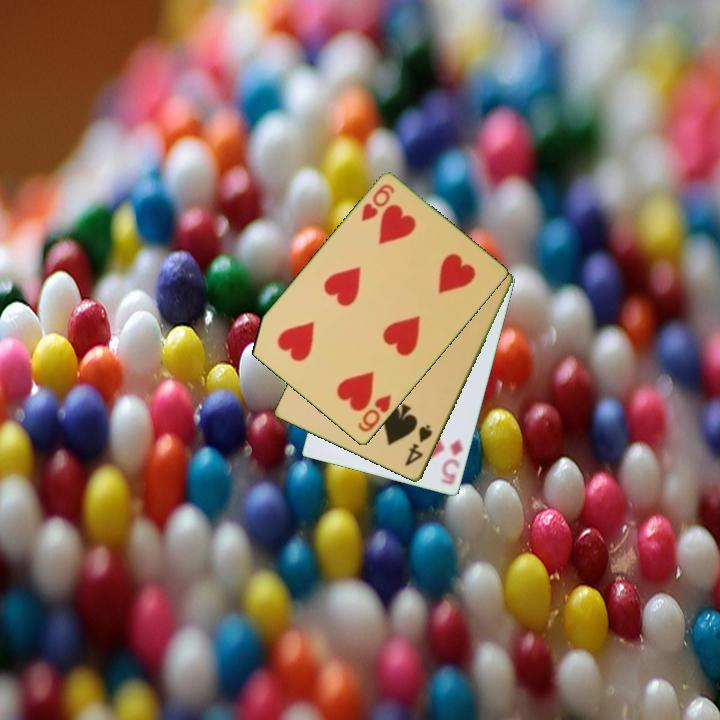4s: (401, 421, 435, 470)
5d: (438, 436, 466, 488)
6h: (354, 391, 395, 436), (358, 181, 397, 225)
